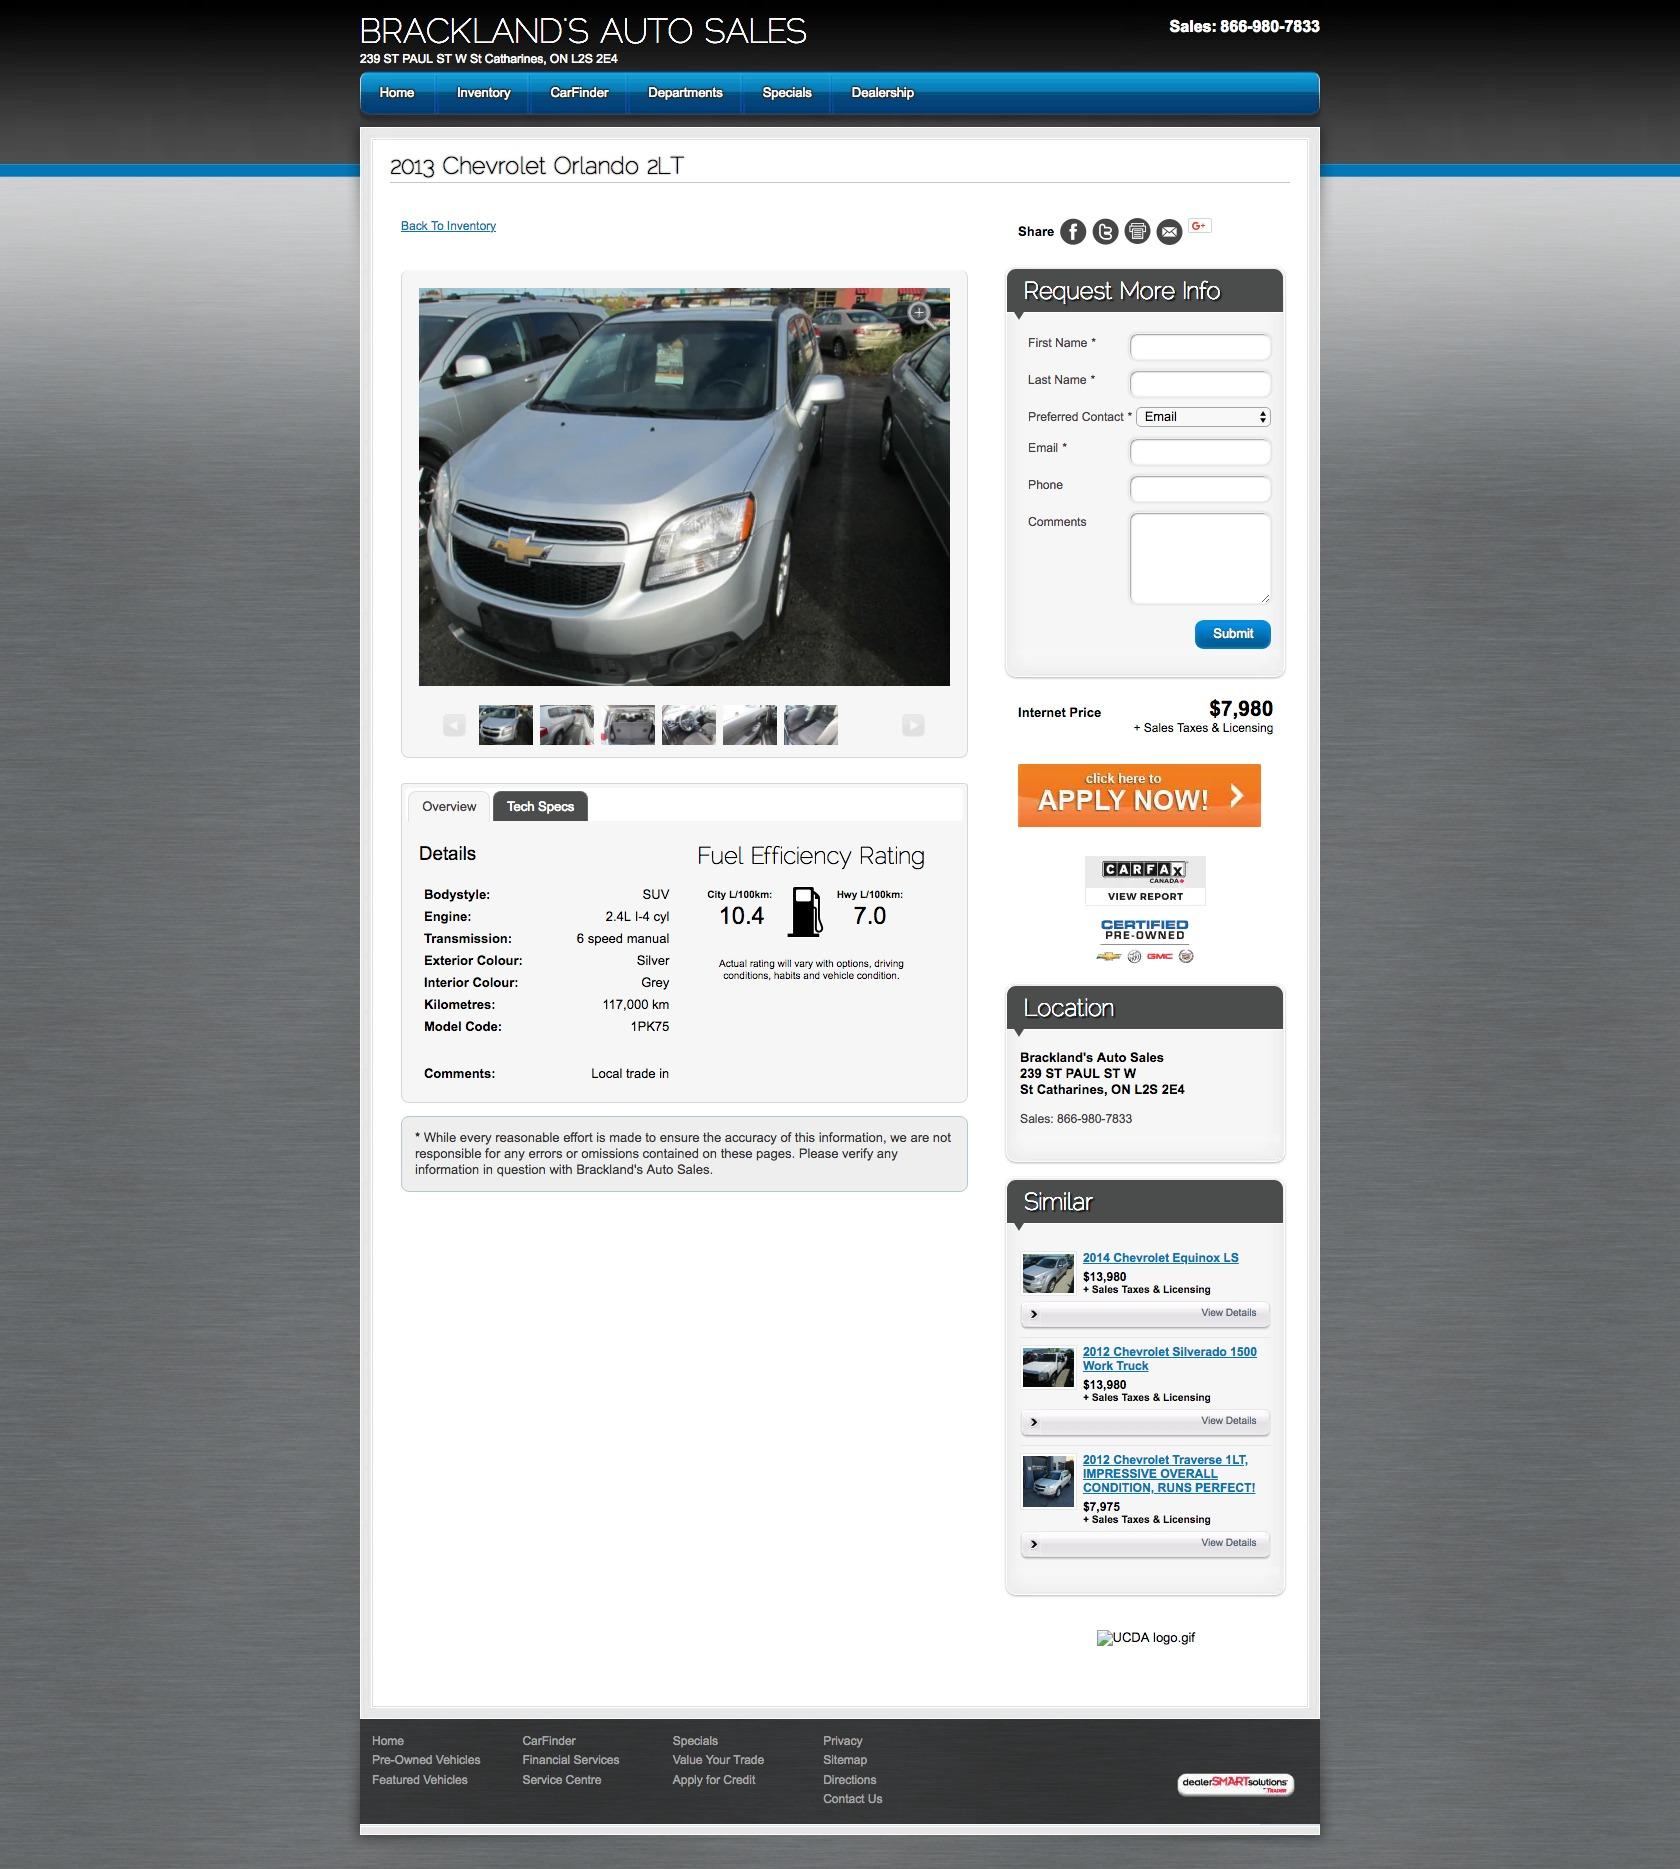car: (902, 713, 926, 738)
